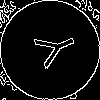Y: (25, 25, 80, 73)
